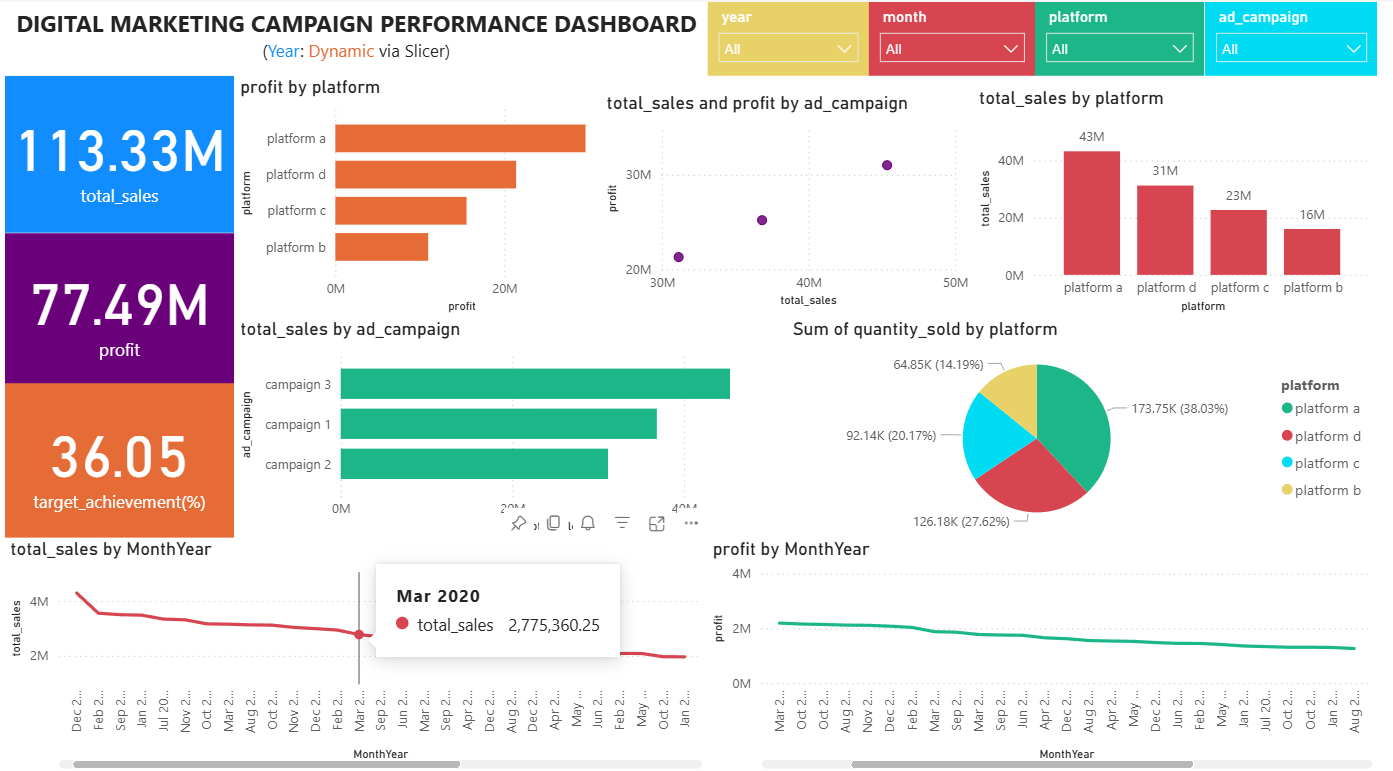

What the dashboard file says about the page in this screenshot:
{"tool":"powerbi","page":{"name":"Page 1","canvas":[1280,720],"ordinal":0},"visuals":[{"type":"slicer","fields":{"Values":["cleaned_data.year"]},"box":[655.4,0,150.4,68.5],"z":0},{"type":"slicer","fields":{"Values":["cleaned_data.month"]},"box":[805.8,0,155.3,68.5],"z":1000},{"type":"slicer","fields":{"Values":["cleaned_data.platform"]},"box":[961.1,0,157.7,68.5],"z":2000},{"type":"slicer","fields":{"Values":["cleaned_data.ad_campaign"]},"box":[1118.9,0,161.4,68.5],"z":3000},{"type":"card","fields":{"Values":["cleaned_data.total_sales"]},"box":[0,68.5,214,146.7],"z":4000},{"type":"clusteredBarChart","fields":{"Category":["cleaned_data.ad_campaign"],"Y":["cleaned_data.total_sales"]},"box":[214,294.7,516,205.4],"z":5000},{"type":"columnChart","fields":{"Category":["cleaned_data.platform"],"Y":["cleaned_data.total_sales"]},"box":[903.7,79.5,376.6,215.2],"z":6000},{"type":"clusteredBarChart","fields":{"Category":["cleaned_data.platform"],"Y":["cleaned_data.profit"]},"box":[214,68.5,347.3,226.2],"z":7000},{"type":"lineChart","fields":{"Y":["cleaned_data.total_sales"],"Category":["cleaned_data.MonthYear"]},"box":[0,500.1,655.4,220.1],"z":8000},{"type":"card","fields":{"Values":["cleaned_data.profit"]},"box":[0,215.2,214,140.6],"z":9000},{"type":"scatterChart","fields":{"X":["cleaned_data.total_sales"],"Y":["cleaned_data.profit"],"Category":["cleaned_data.ad_campaign"]},"box":[556.4,84.4,347.3,205.4],"z":10000},{"type":"card","fields":{"Values":["cleaned_data.target_achievement(%)"]},"box":[0,355.8,214,144.3],"z":11000},{"type":"lineChart","fields":{"Category":["cleaned_data.MonthYear"],"Y":["cleaned_data.profit"]},"box":[655.4,500.1,624.9,220.1],"z":12000},{"type":"pieChart","fields":{"Category":["cleaned_data.platform"],"Y":["Sum(cleaned_data.quantity_sold)"]},"box":[730,294.7,550.3,205.4],"z":13000},{"type":"textbox","box":[0,0,655.4,68.5],"z":13001}]}

Visuals, with their boxes in screenshot pixels (x1, y1, x2, y2), scaled from the page's 1280x720 canvas onto the 1393x771 screenshot:
slicer - cleaned_data.year: bbox=[713, 0, 877, 73]
slicer - cleaned_data.month: bbox=[877, 0, 1046, 73]
slicer - cleaned_data.platform: bbox=[1046, 0, 1218, 73]
slicer - cleaned_data.ad_campaign: bbox=[1218, 0, 1392, 73]
card - cleaned_data.total_sales: bbox=[0, 73, 233, 230]
clusteredBarChart - cleaned_data.ad_campaign x cleaned_data.total_sales: bbox=[233, 316, 794, 536]
columnChart - cleaned_data.platform x cleaned_data.total_sales: bbox=[983, 85, 1392, 316]
clusteredBarChart - cleaned_data.platform x cleaned_data.profit: bbox=[233, 73, 611, 316]
lineChart - cleaned_data.total_sales x cleaned_data.MonthYear: bbox=[0, 536, 713, 770]
card - cleaned_data.profit: bbox=[0, 230, 233, 381]
scatterChart - cleaned_data.total_sales x cleaned_data.profit: bbox=[606, 90, 983, 310]
card - cleaned_data.target_achievement(%): bbox=[0, 381, 233, 536]
lineChart - cleaned_data.MonthYear x cleaned_data.profit: bbox=[713, 536, 1392, 770]
pieChart - cleaned_data.platform x Sum(cleaned_data.quantity_sold): bbox=[794, 316, 1392, 536]
textbox: bbox=[0, 0, 713, 73]
